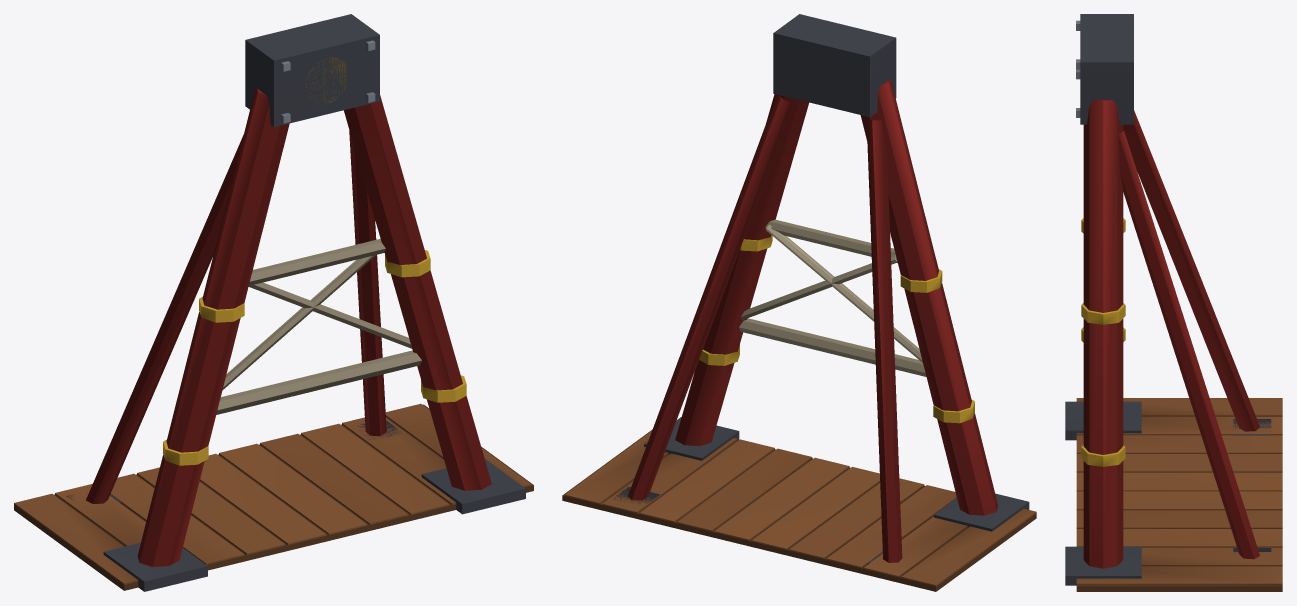
Rendered from wheel_stand.glb.
The picture shows the model from 3 angles, left to right: view 1: azimuth 30°, elevation 25°; view 2: azimuth 150°, elevation 25°; view 3: azimuth 270°, elevation 25°; orthographic projection. The views are drawn at different scales.
Parts seen in each view (by area): view 1: wheel_stand; view 2: wheel_stand; view 3: wheel_stand.
Part boxes in pixels (x1,y1,x2,y2): wheel_stand: (14, 14, 533, 591); wheel_stand: (562, 14, 1036, 591); wheel_stand: (1065, 14, 1282, 591).
Size of the model in its own units: 5.8 by 6.72 by 2.85.
